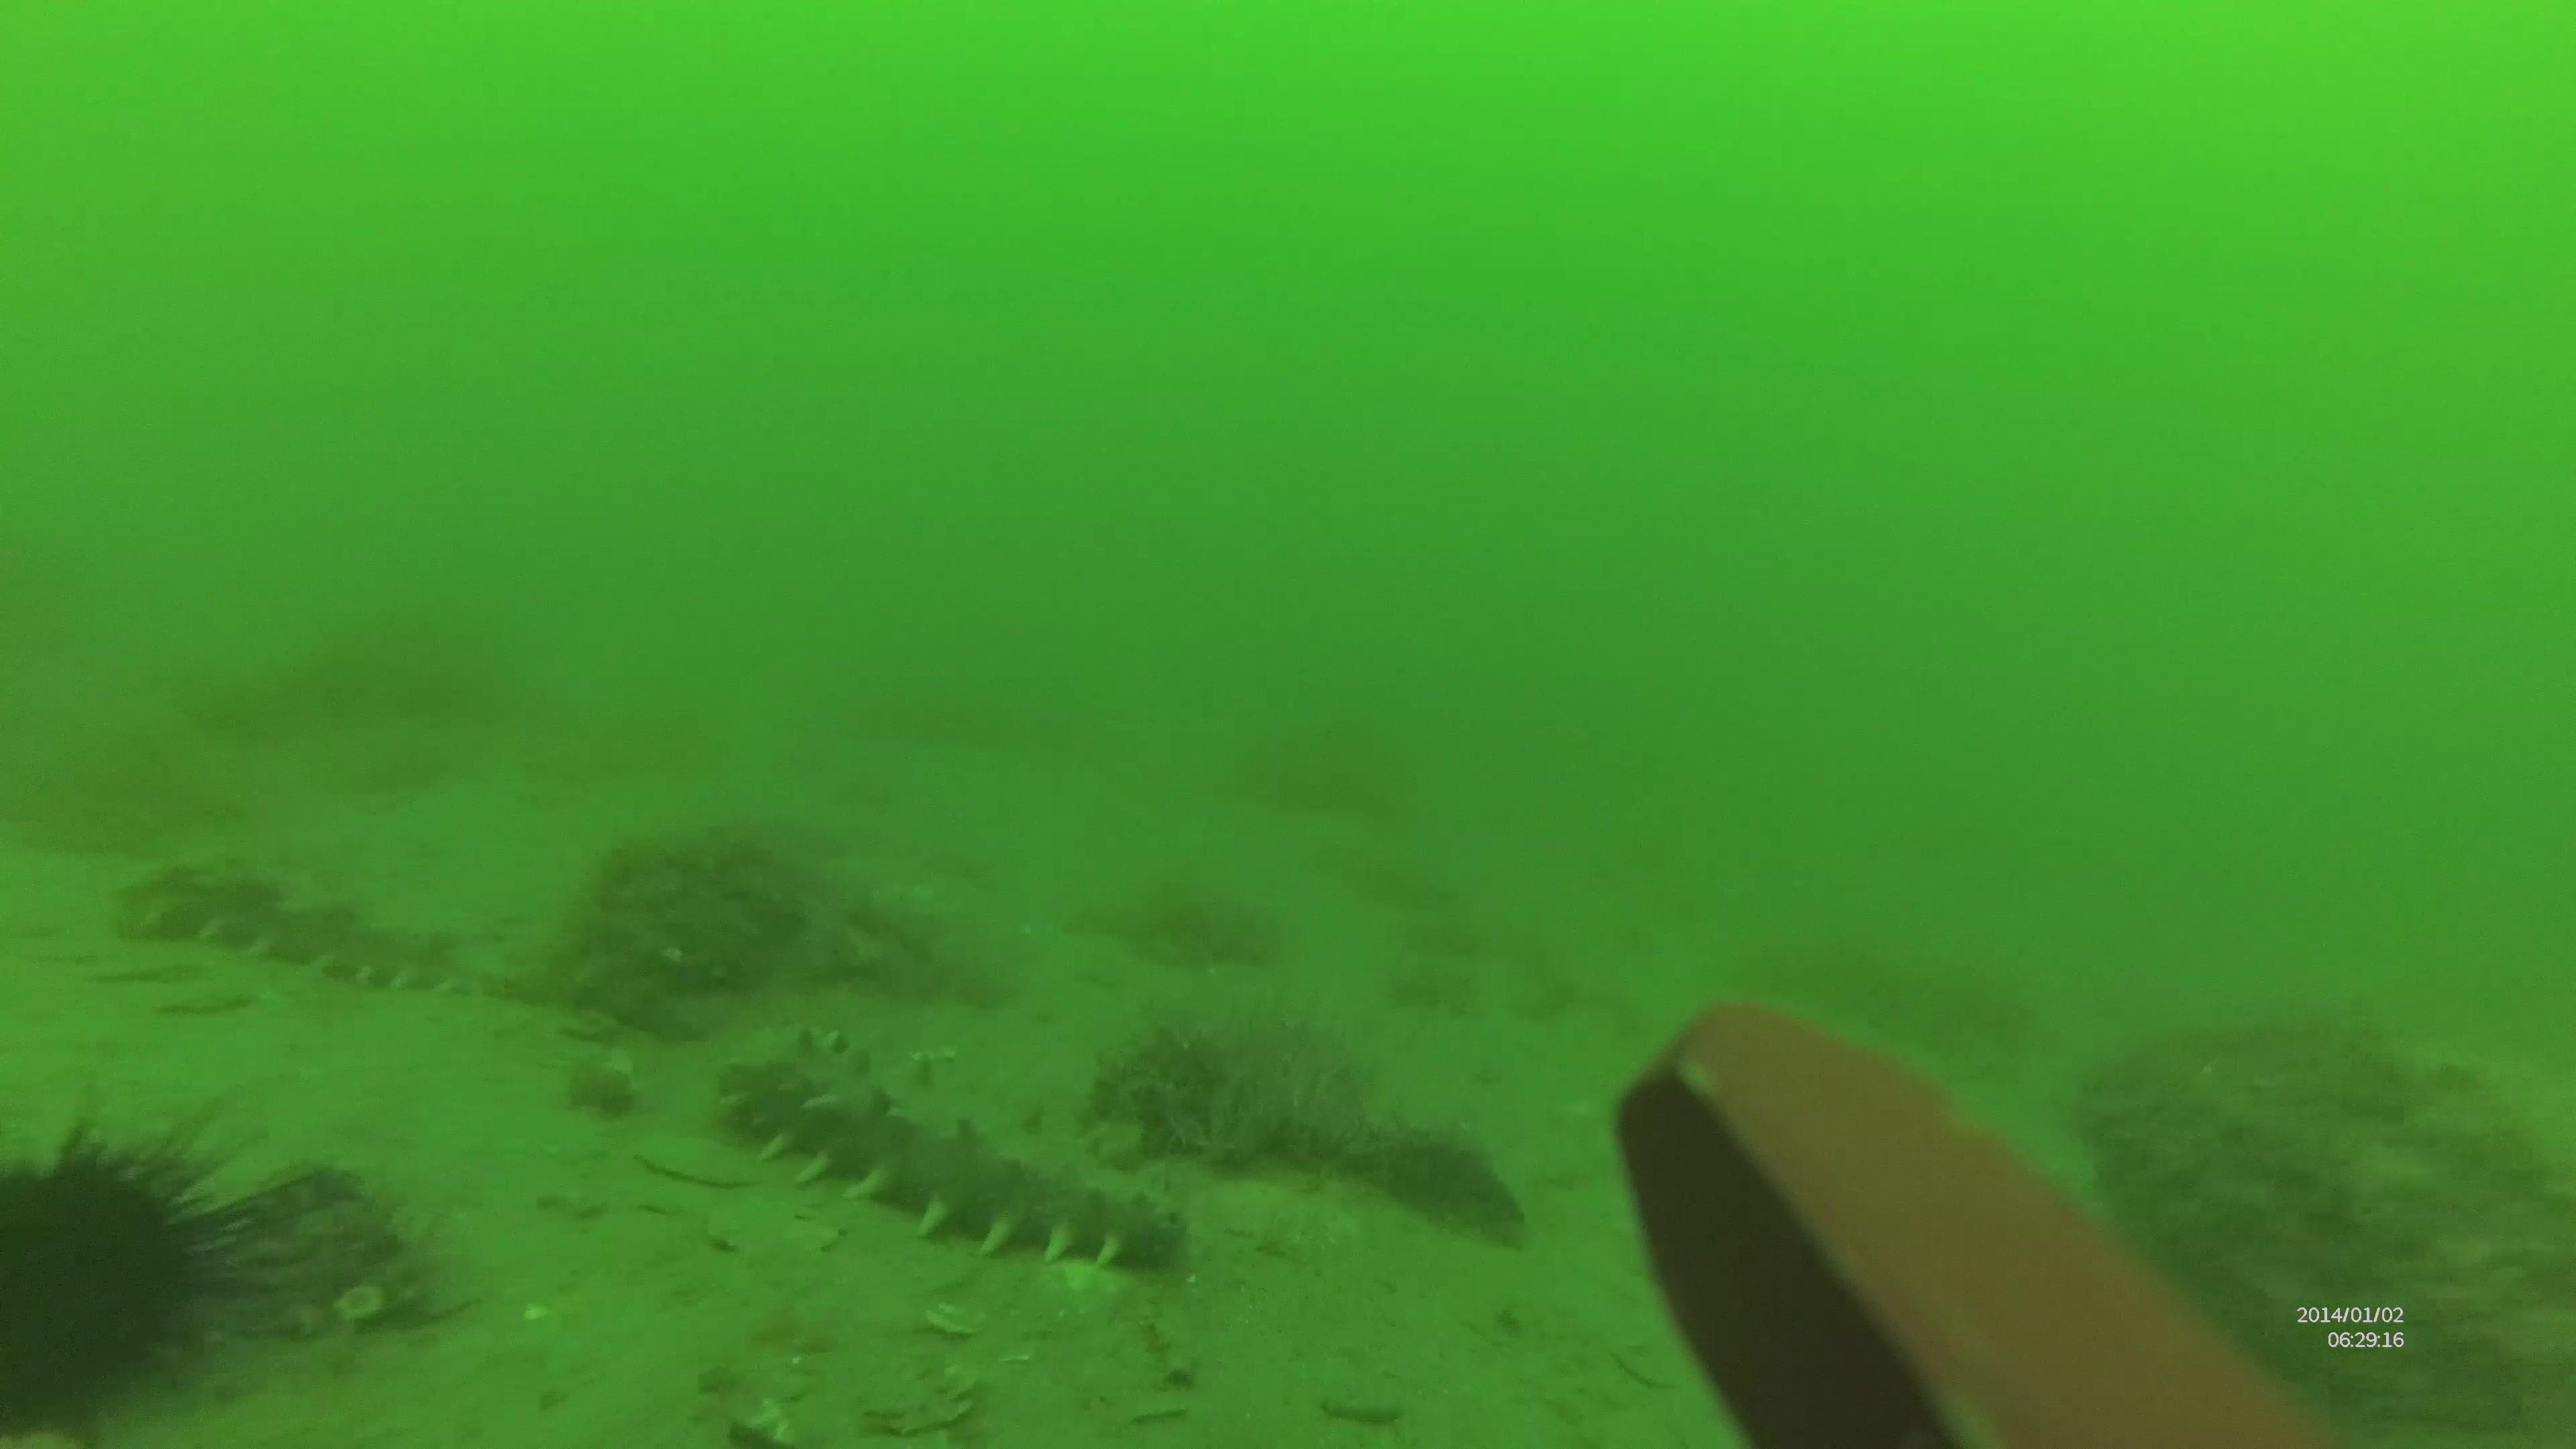echinus: (0, 1102, 288, 1449)
holothurian: (725, 1062, 1180, 1276), (97, 858, 529, 1005)
